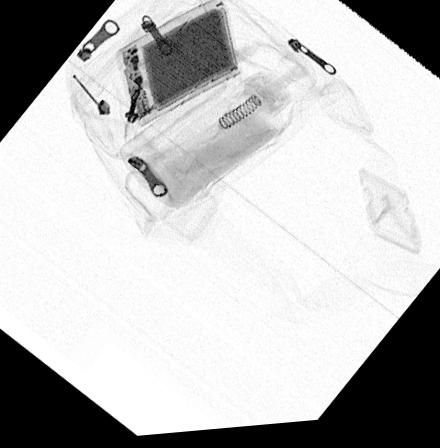Powerbank: (115, 1, 240, 132)
